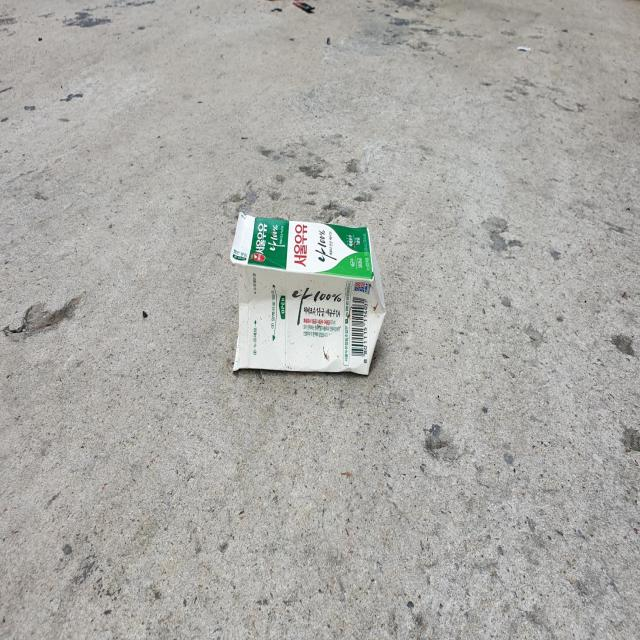paperpack: (230, 212, 386, 374)
